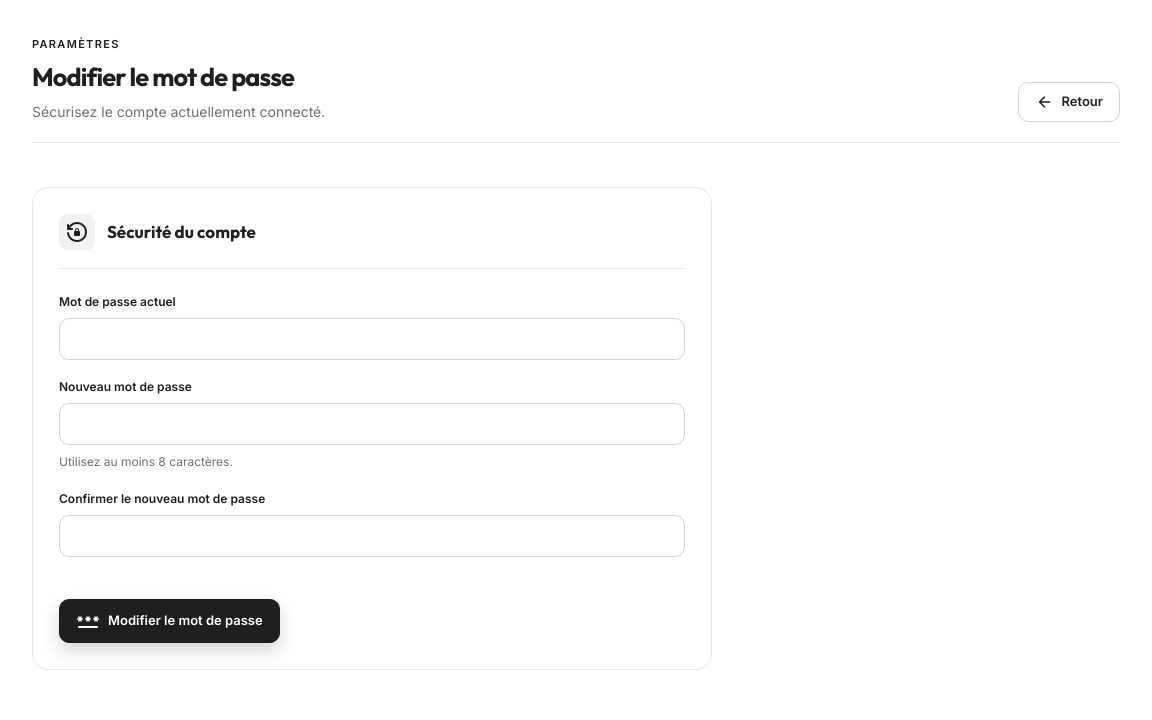
Scenario: PasswordSettingsPage › refuse une confirmation différente
Type "ancien-secret" into the password field labelled "Mot de passe actuel" at (372, 339), box [59,318,685,360]
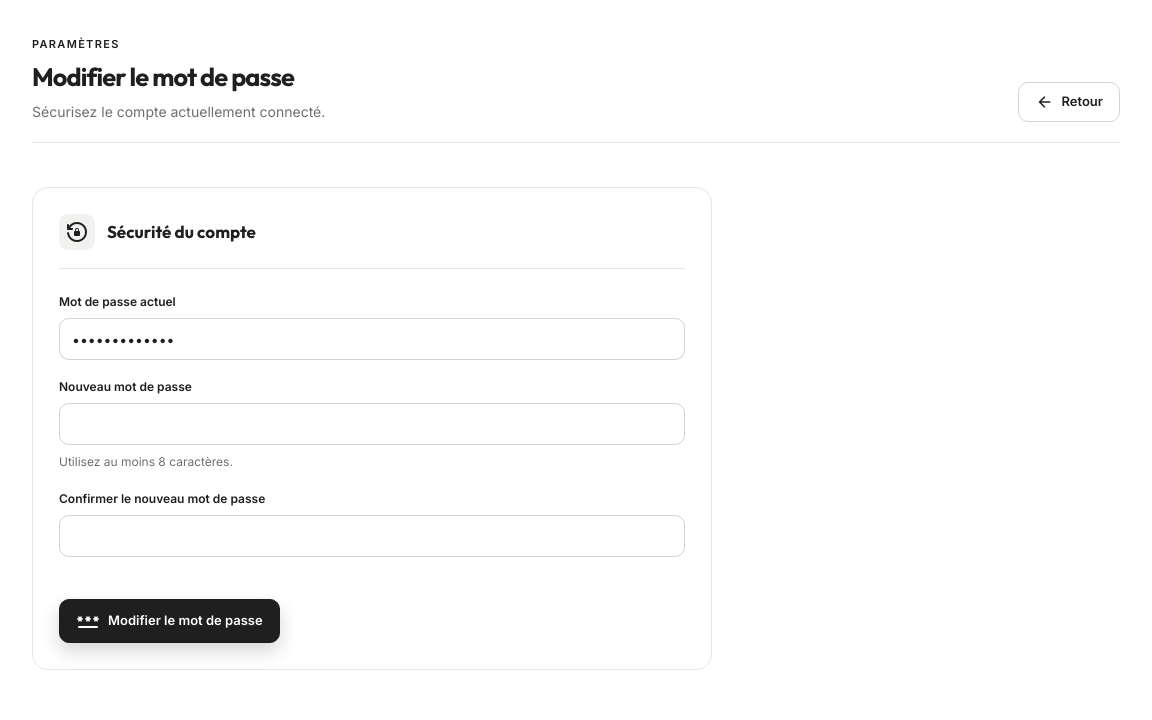
Type "nouveau-secret" into the password field labelled "Nouveau mot de passe" at (372, 424), box [59,403,685,445]
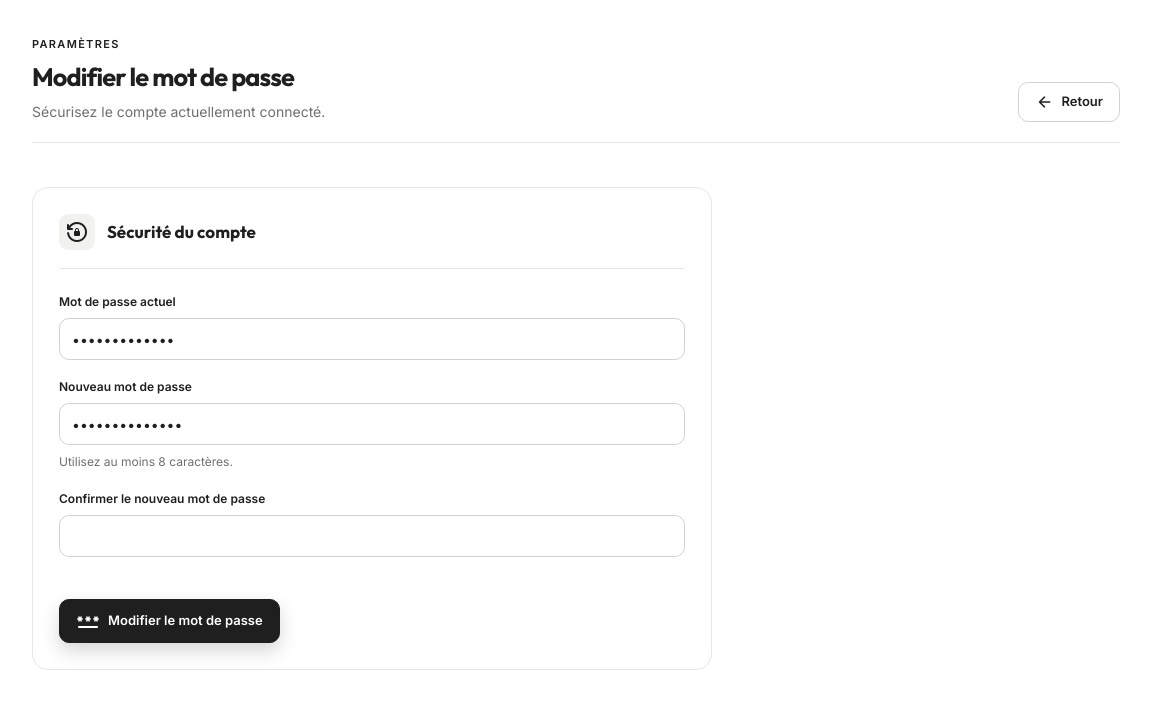
Type "autre-secret" into the password field labelled "Confirmer le nouveau mot de passe" at (372, 536), box [59,515,685,557]
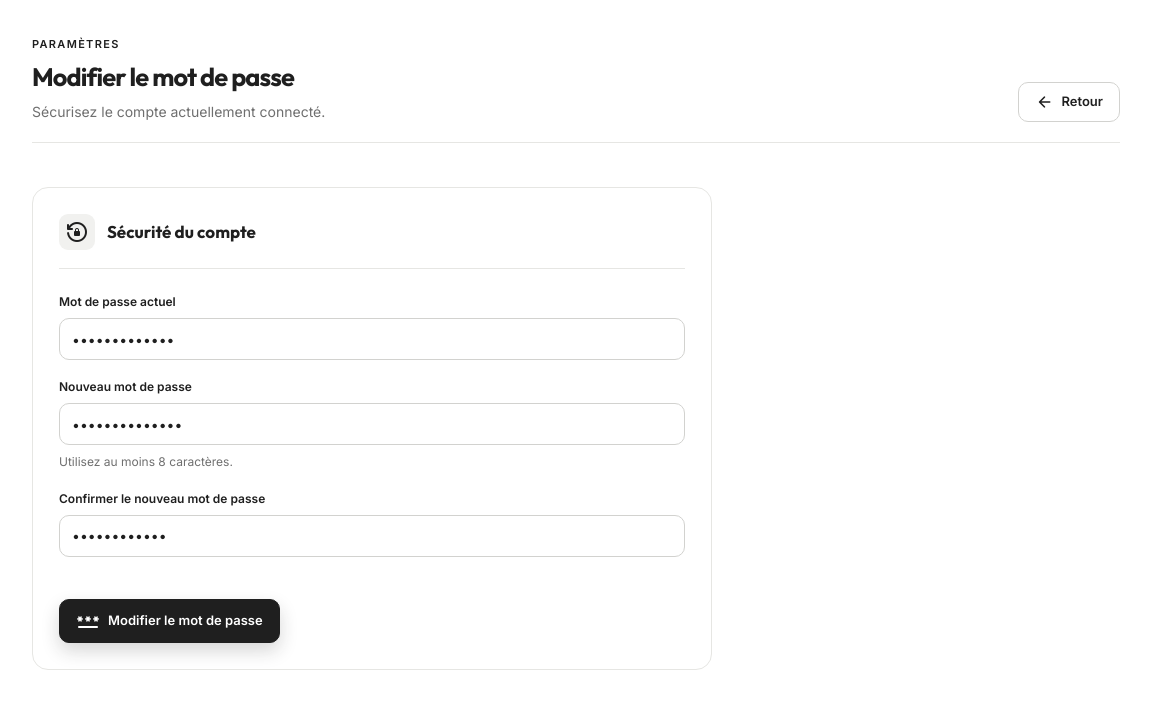
Click the button "Modifier le mot de passe" at (169, 621), box [59,599,280,643]
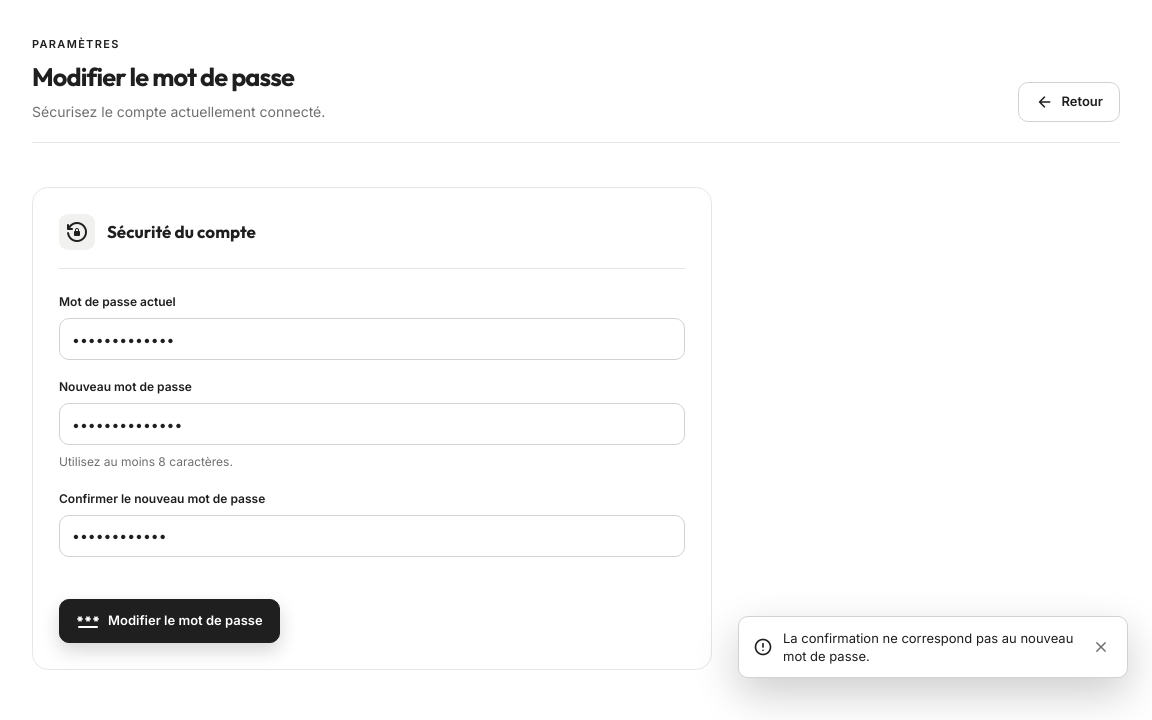
Expected: the message reads "La confirmation ne correspond pas au nouveau mot de passe.", [783,630,1073,664]
